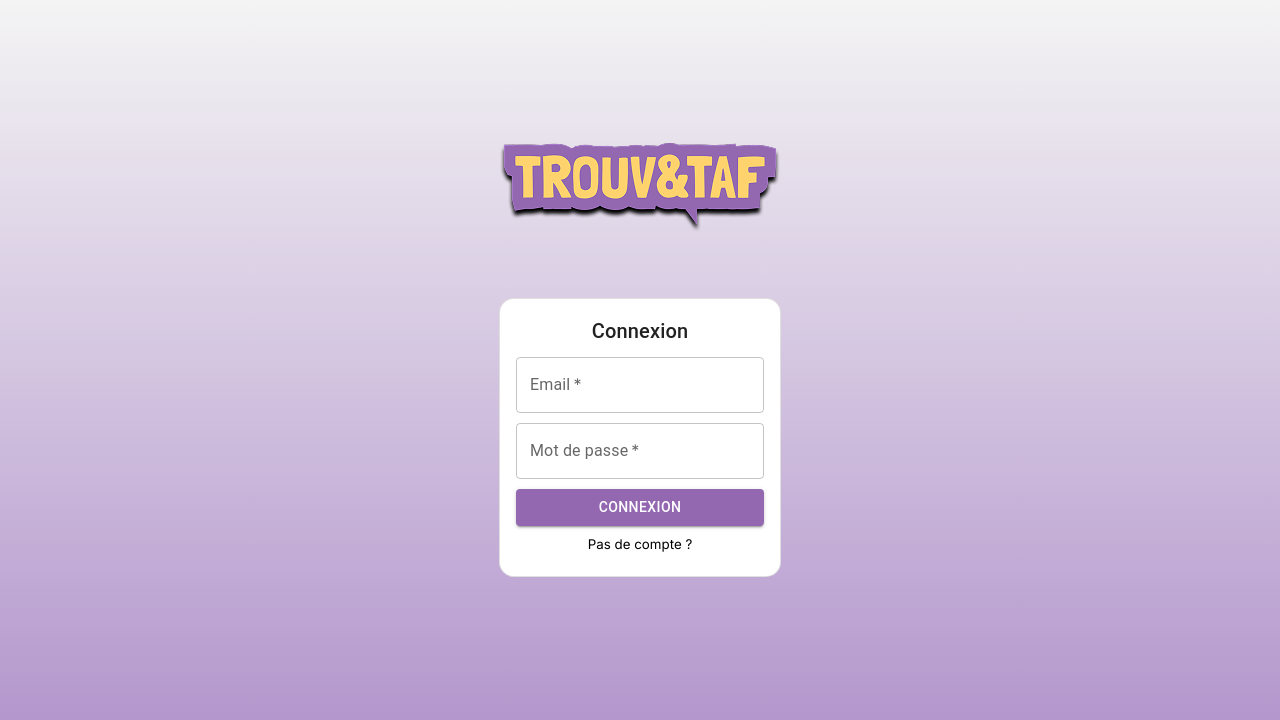
Test case: Register Page › can switch back to login form
This screenshot has width=1280, height=720.
Click the button "Pas de compte ?": click(641, 544) [588,536,693,552]
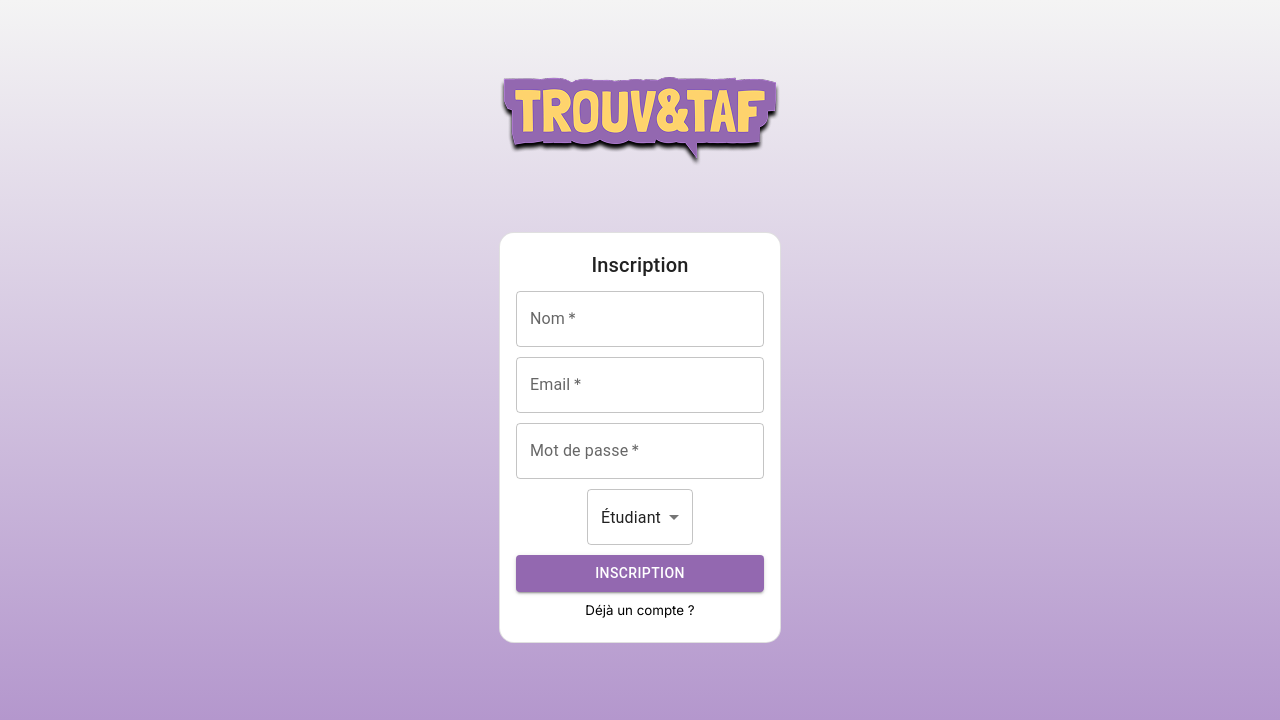
Click the button "Déjà un compte ?": click(640, 610) [585,602,694,618]
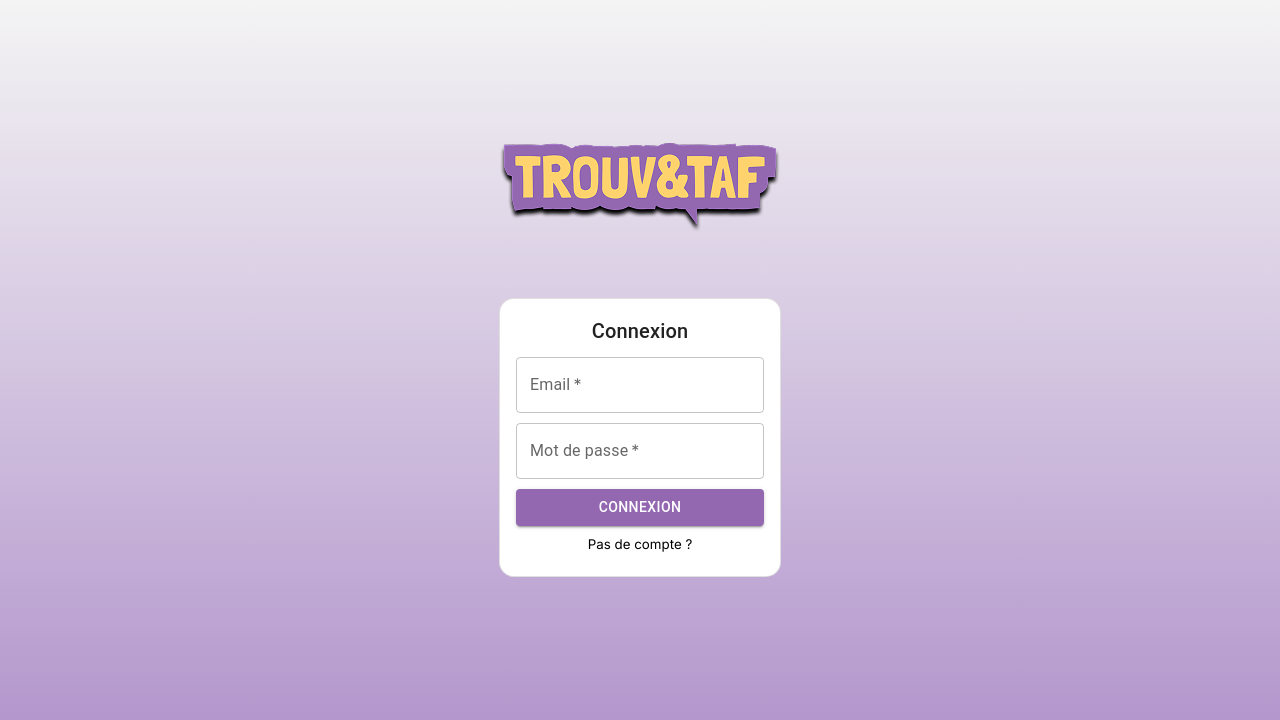
Expected: the field named "email" is shown, [516,357,764,413]
Expected: the button "Connexion" is shown, [516,489,764,526]
